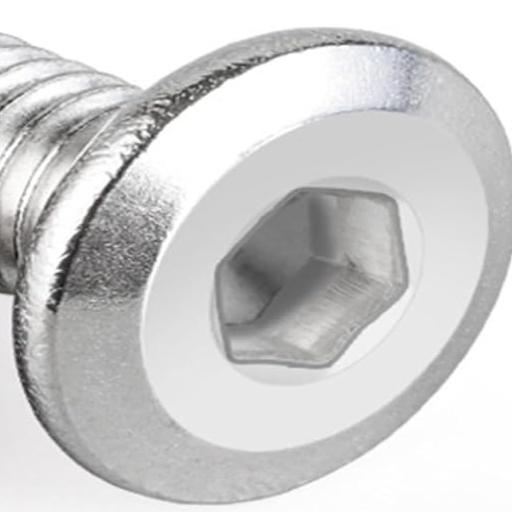Hex-Allen: (2, 0, 512, 511)
